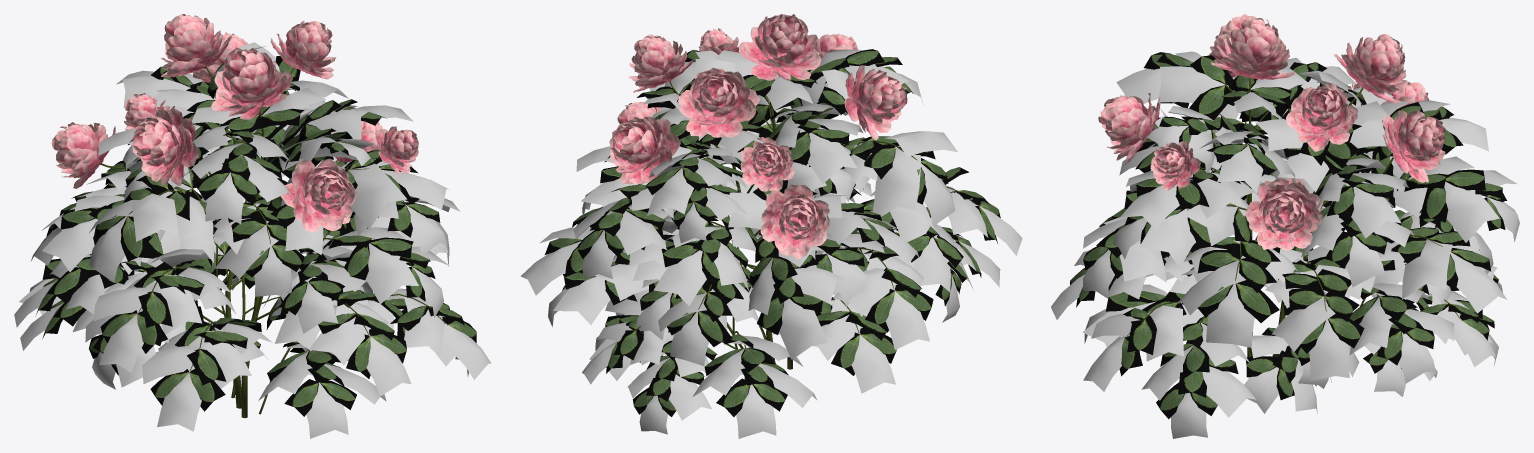
3 views of the same model, side by side, from view 1: azimuth 30°, elevation 25°; view 2: azimuth 150°, elevation 25°; view 3: azimuth 270°, elevation 25° (orthographic). The views are drawn at different scales.
Parts seen in each view (by area): view 1: 3DXY_geometry_004, 3DXY_geometry_001, 3DXY_geometry_002, 3DXY_geometry_003; view 2: 3DXY_geometry_004, 3DXY_geometry_001, 3DXY_geometry_002, 3DXY_geometry_003; view 3: 3DXY_geometry_004, 3DXY_geometry_001, 3DXY_geometry_002, 3DXY_geometry_003.
Part boxes in pixels (x1,y1,x2,y2): 3DXY_geometry_004: [14, 42, 491, 438]; 3DXY_geometry_001: [35, 56, 476, 416]; 3DXY_geometry_002: [51, 14, 418, 232]; 3DXY_geometry_003: [78, 67, 445, 418]; 3DXY_geometry_004: [520, 49, 1022, 438]; 3DXY_geometry_001: [545, 49, 1000, 416]; 3DXY_geometry_002: [609, 14, 907, 259]; 3DXY_geometry_003: [602, 81, 976, 379]; 3DXY_geometry_004: [1051, 51, 1519, 438]; 3DXY_geometry_001: [1070, 52, 1506, 419]; 3DXY_geometry_002: [1098, 14, 1445, 250]; 3DXY_geometry_003: [1126, 77, 1487, 377].
Size of the model in its own units: 1179 by 1060 by 1262.
Materials: 4 (2 with a texture image).
